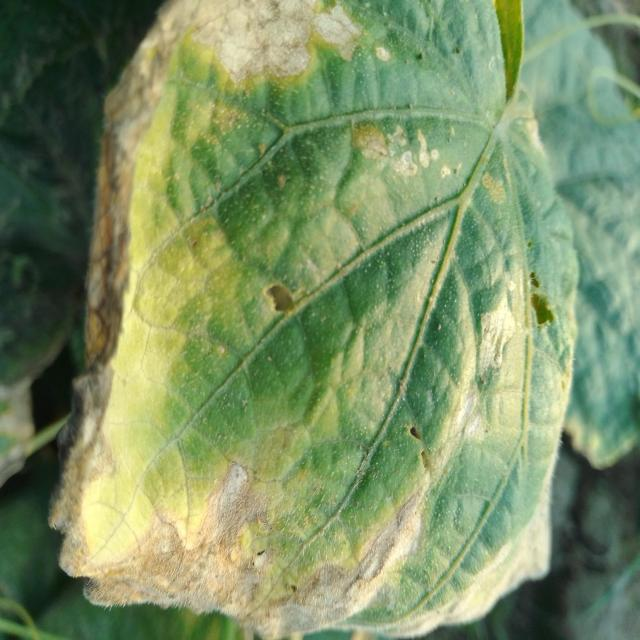cucumber_gummy: (42, 0, 583, 638)
